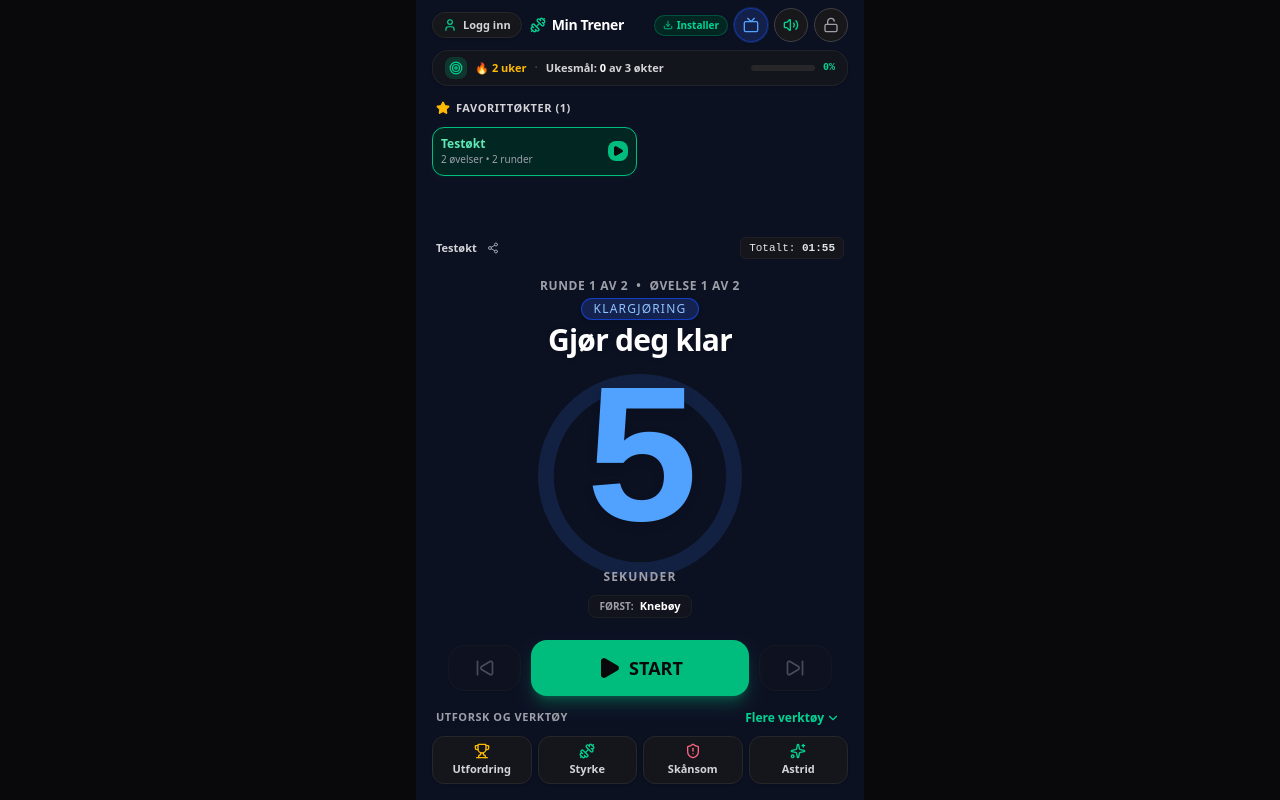
Test: TimerDisplay – streak i ukesmål-pillen (idle-gren) › trykk på pillen åpner streak-detaljarket
Click the button named "åpne detaljer": click(640, 68) top-left (432, 50), bottom-right (848, 86)
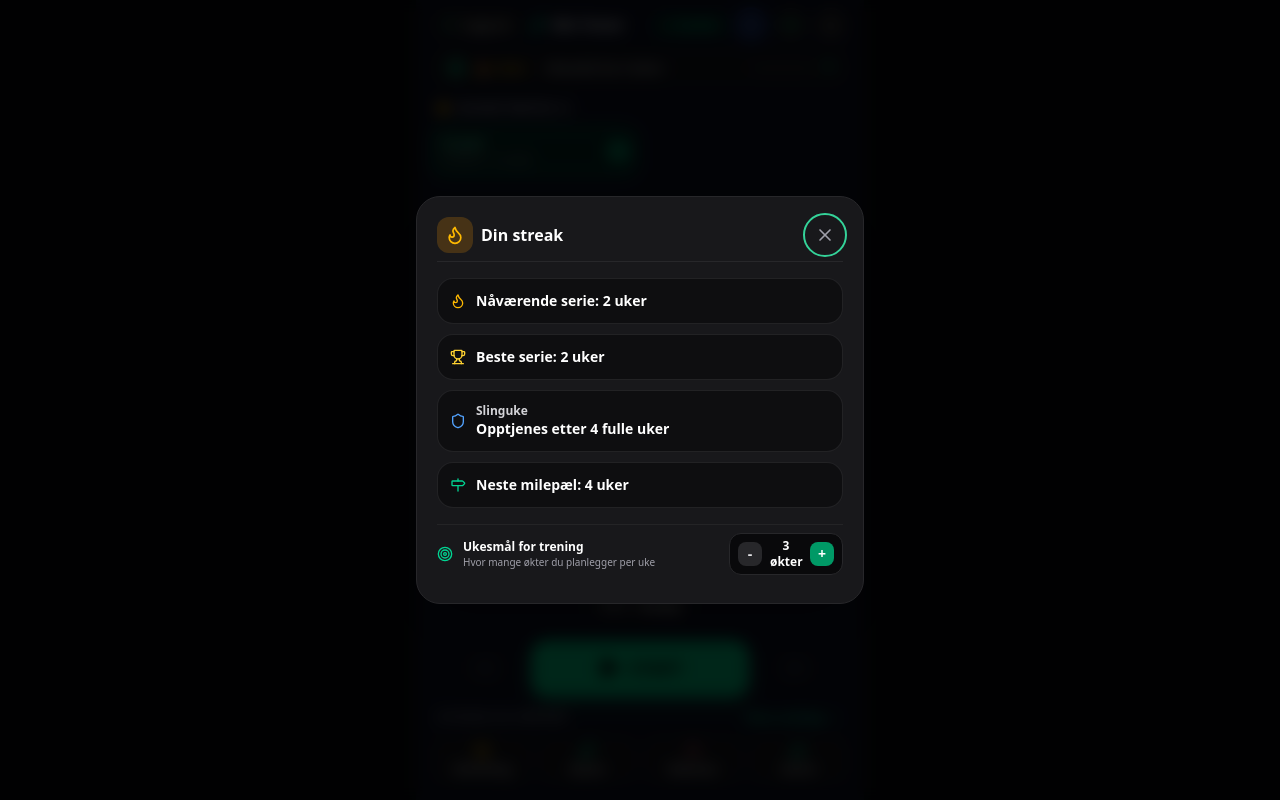
Expected: the dialog "Din streak" is shown, top-left (416, 196), bottom-right (864, 604)
